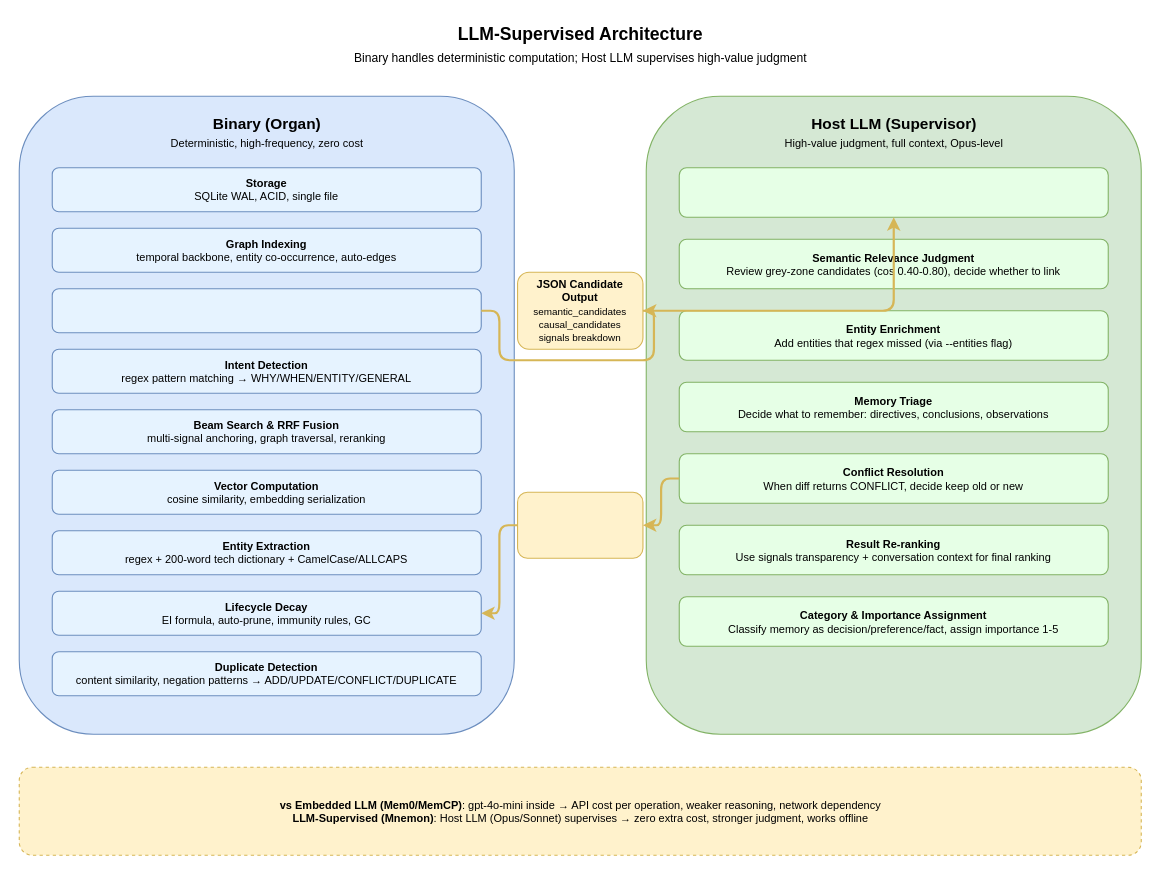
The diagram is 1161 pixels wide and 875 high, and some of its shapes have lost their labels. Here are the shapes that lost their labels. From the top down, the box of each, then its label:
(678, 167, 1108, 217): Causal Chain Evaluation Review causal candidates: did A really cause B?
(51, 288, 481, 333): Keyword Search tokenization, stopwords, CJK bigrams, scoring
(516, 491, 643, 558): CLI Commands remember, link, forget, gc --keep
